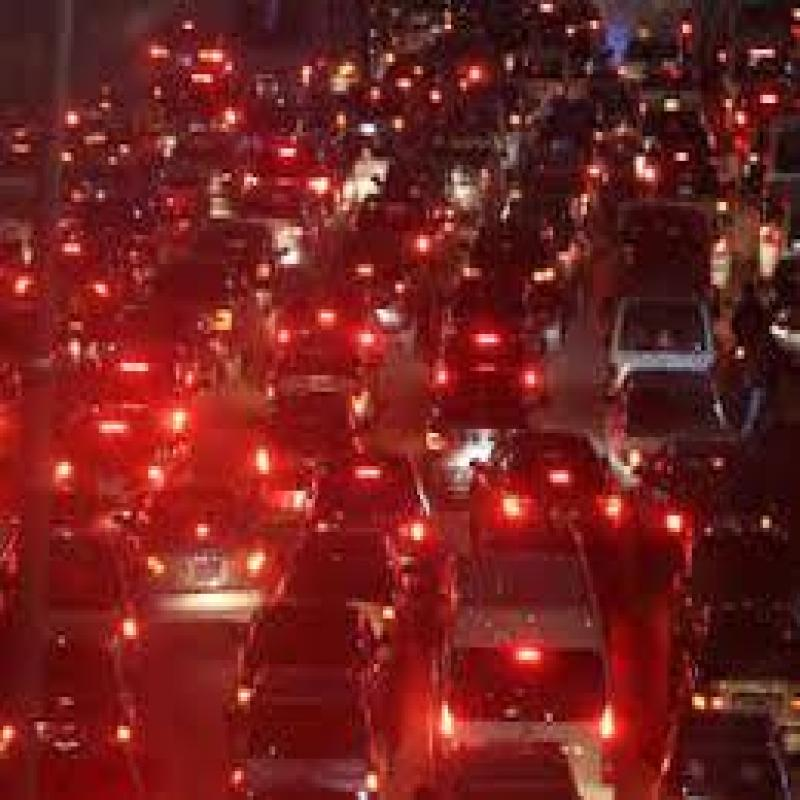car: (430, 528, 596, 800), (129, 487, 279, 630), (471, 426, 608, 567)
